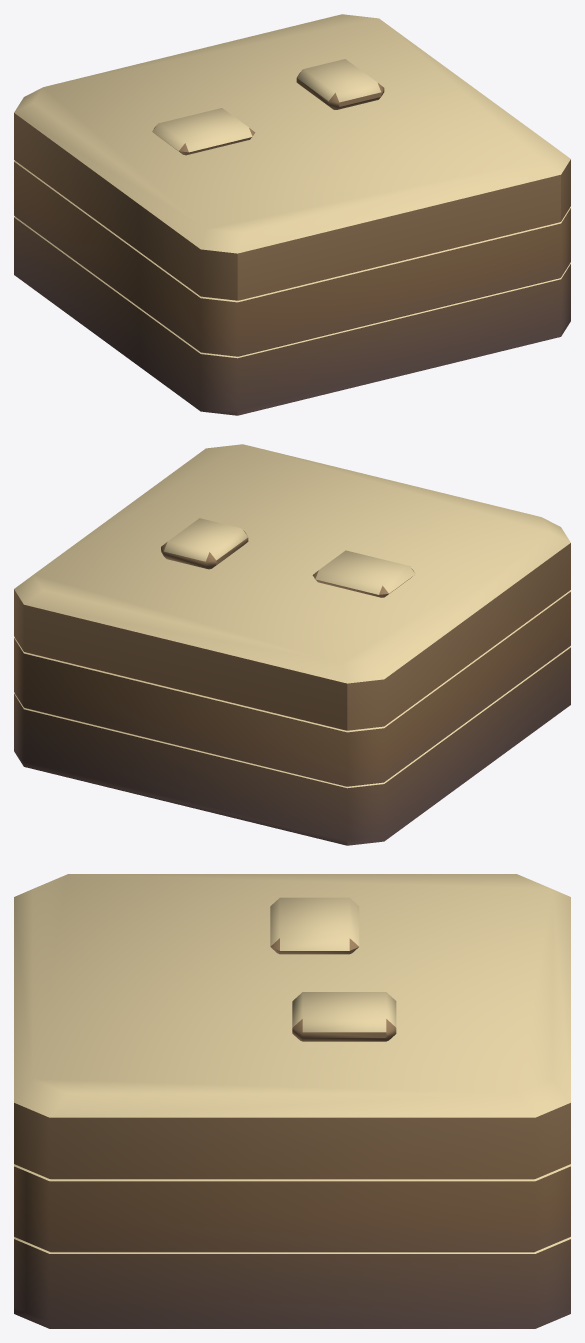
The model's file is canyon_corner_low.glb.
3 views of the same model, one above another, from view 1: azimuth 30°, elevation 25°; view 2: azimuth 150°, elevation 25°; view 3: azimuth 270°, elevation 25° (orthographic). The views are drawn at different scales.
Visible parts, largest first — view 1: canyon_corner_low; view 2: canyon_corner_low; view 3: canyon_corner_low.
Part boxes in pixels (<box>): canyon_corner_low: <box>14,14,570,415</box>; canyon_corner_low: <box>14,444,570,845</box>; canyon_corner_low: <box>14,874,570,1328</box>.
Bounding box in the file's own units: 3 × 1.48 × 3.
Materials: 1 (1 with a texture image).
